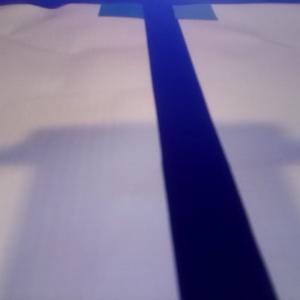bottom_left: (99, 1, 172, 19)
bottom_right: (144, 1, 216, 20)
